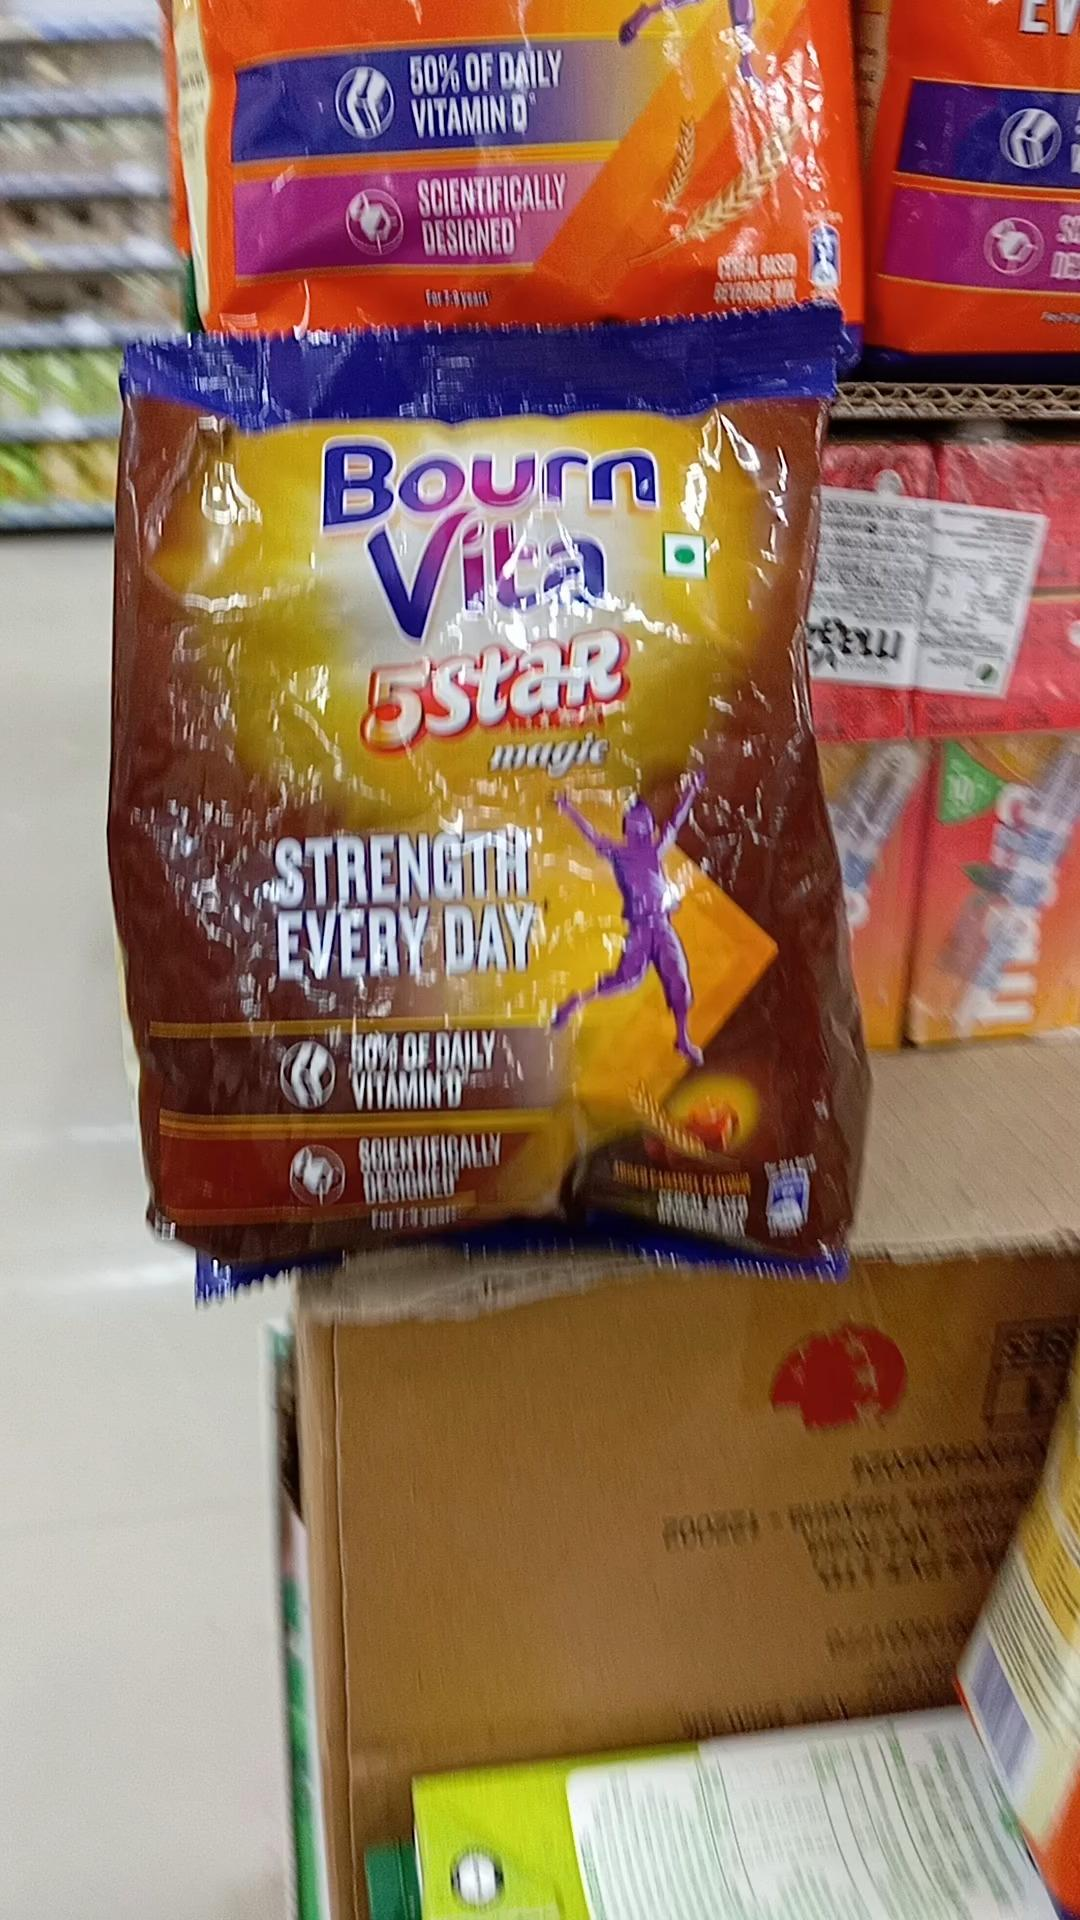BOURN_VITA_FIVE_STAR_MAGIC_500_G_POUCH: (120, 335, 876, 1265)
